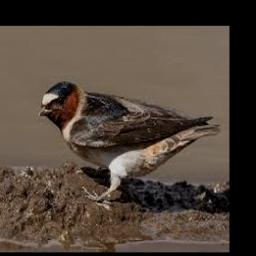Swallow: (38, 81, 219, 199)
